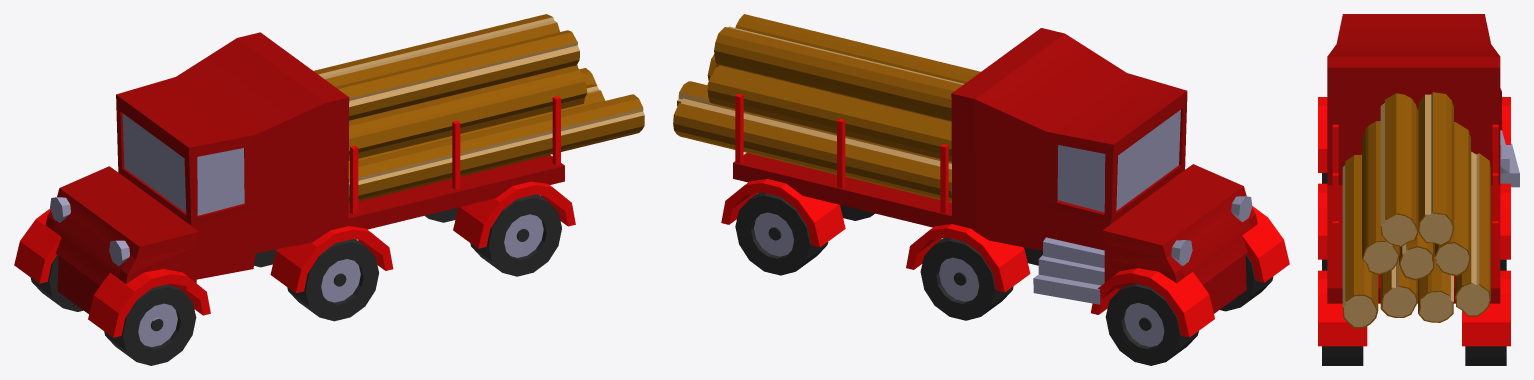
The model's file is logging truck.FBX.
3 views of the same model, side by side, from view 1: azimuth 30°, elevation 25°; view 2: azimuth 150°, elevation 25°; view 3: azimuth 270°, elevation 25° (orthographic). The views are drawn at different scales.
Visible parts, largest first — view 1: Box001, Cylinder010, Cylinder012, Cylinder015, Cylinder013, Cylinder007; view 2: Box001, Cylinder009, Cylinder013, Cylinder014, Cylinder015, Cylinder008; view 3: Box001, Cylinder015, Cylinder013, Cylinder010, Cylinder009, Cylinder012, Cylinder014, Cylinder008, Cylinder007, Cylinder011.
Part boxes in pixels (x1,y1,x2,y2): Box001: (14,32,575,365); Cylinder010: (348,94,644,203); Cylinder012: (349,65,587,160); Cylinder015: (335,30,579,120); Cylinder013: (314,14,559,86); Cylinder007: (348,84,605,163); Box001: (721,28,1289,365); Cylinder009: (673,98,951,202); Cylinder013: (714,26,963,121); Cylinder014: (707,65,951,162); Cylinder015: (735,14,980,83); Cylinder008: (677,81,951,162); Box001: (1318,14,1519,365); Cylinder015: (1380,93,1418,246); Cylinder013: (1418,92,1453,245); Cylinder010: (1342,154,1378,328); Cylinder009: (1455,151,1490,316); Cylinder012: (1362,121,1399,274); Cylinder014: (1434,122,1470,276); Cylinder008: (1418,244,1453,322); Cylinder007: (1380,259,1417,317); Cylinder011: (1399,232,1434,280).
Size of the model in its own units: 87.19 by 33.34 by 28.75.
